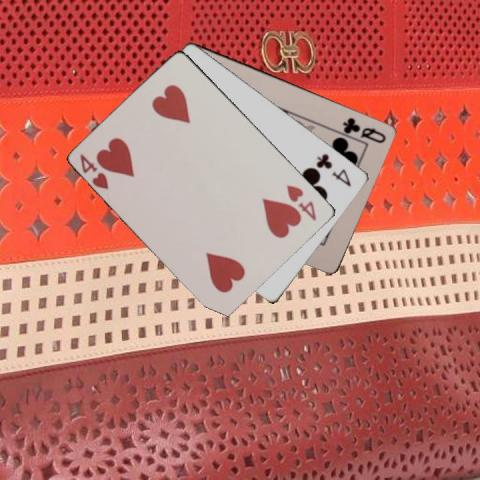4c: (314, 151, 354, 188)
4h: (284, 181, 318, 223), (76, 151, 110, 191)
Qc: (340, 114, 388, 145)
